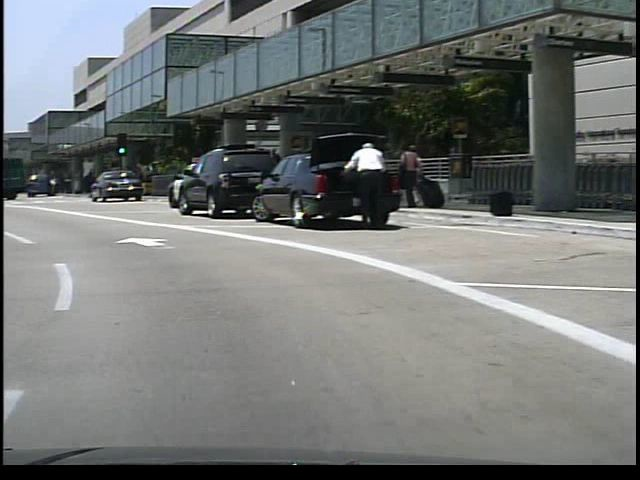person: (335, 138, 385, 233), (391, 143, 413, 213), (394, 141, 415, 214)
